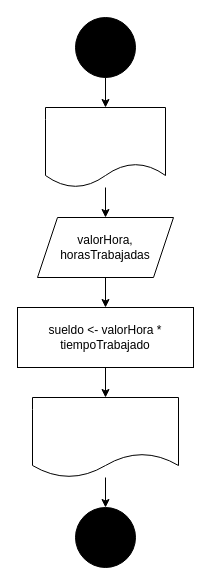
This 211x585 diagram has some shape labels left out. The shapes that lost their labels are listed below. From the top down, each one's centre as x and y in pixels, then its label:
(x=105, y=147): "Ingrese valor de la hora y horas trabajadas"
(x=105, y=437): "El sueldo del trabajador es:", sueldo
